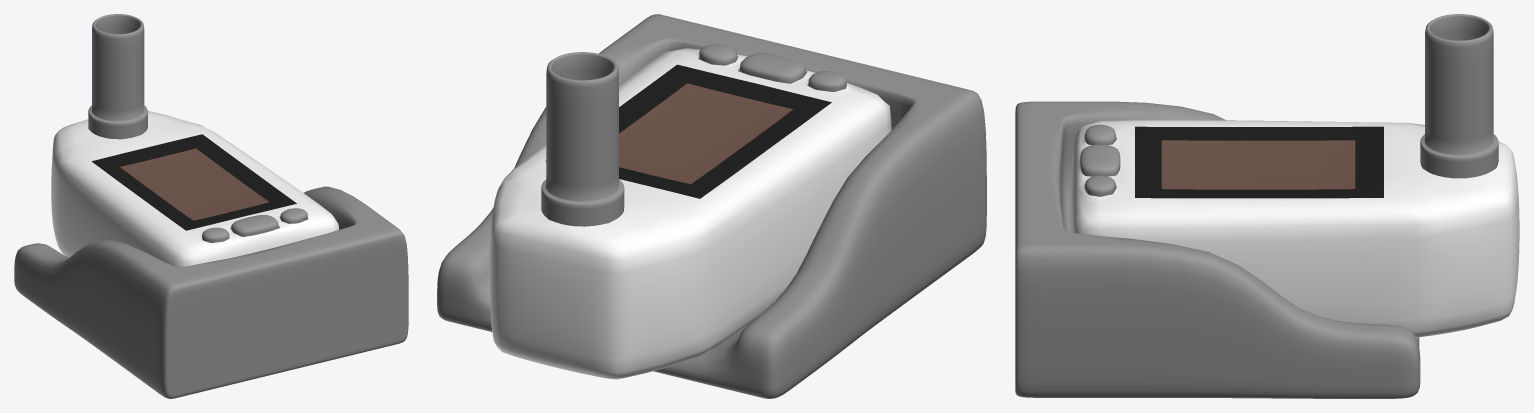
File: spirometre.FBX
3 renders of one model, left to right at view 1: azimuth 30°, elevation 25°; view 2: azimuth 150°, elevation 25°; view 3: azimuth 270°, elevation 25°, orthographic. The views are drawn at different scales.
Visible parts, largest first — view 1: Box002, Box001, Tube002, Object001; view 2: Box001, Box002, Tube002, Object001; view 3: Box001, Box002, Tube002, Object001.
Boxes of the visible parts, box(x1,y1,x2,y2) form: Box002: box(14, 186, 408, 398); Box001: box(51, 111, 339, 266); Tube002: box(88, 14, 147, 139); Object001: box(202, 208, 307, 242); Box001: box(489, 48, 891, 379); Box002: box(437, 14, 986, 398); Tube002: box(541, 52, 624, 226); Object001: box(699, 44, 846, 91); Box001: box(1069, 120, 1519, 337); Box002: box(1015, 101, 1420, 398); Tube002: box(1420, 14, 1498, 178); Object001: box(1080, 124, 1120, 196).
Bounding box in the file's own units: 0.1427 × 0.1245 × 0.1924.
